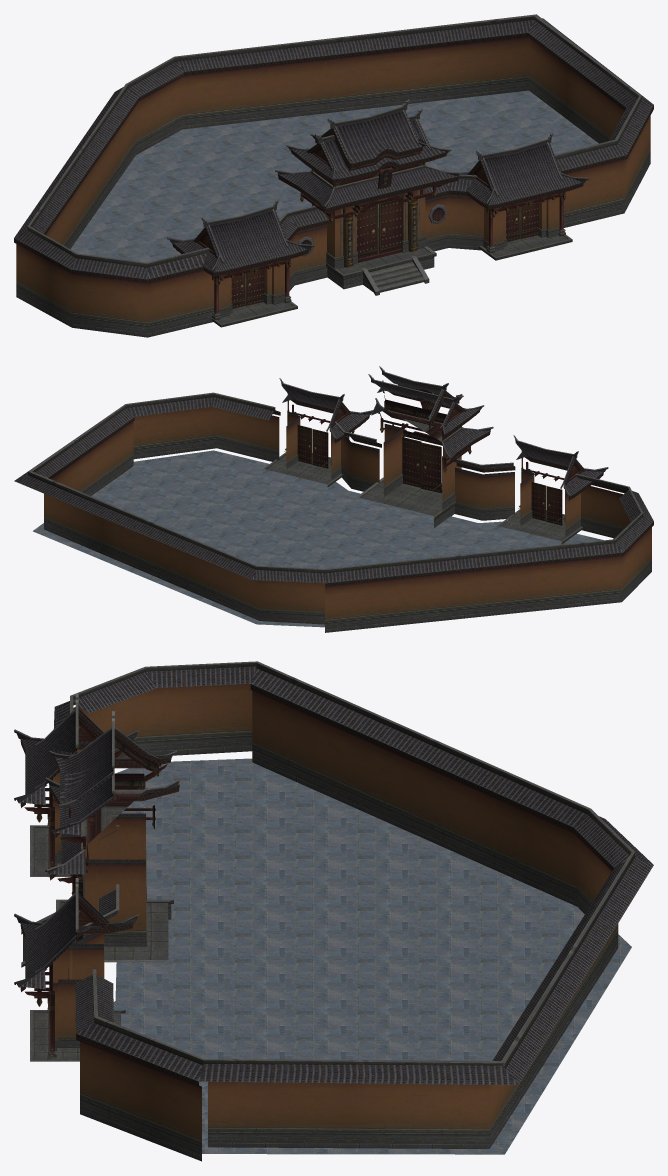
Rendered from yw_shibalipo_shaolinsizhengmen01.FBX.
The picture shows the model from 3 angles, top to bottom: view 1: azimuth 30°, elevation 25°; view 2: azimuth 150°, elevation 25°; view 3: azimuth 270°, elevation 25°; orthographic projection. The views are drawn at different scales.
Parts seen in each view (by area): view 1: yw_shibalipo_shaolinsizhengmen01; view 2: yw_shibalipo_shaolinsizhengmen01; view 3: yw_shibalipo_shaolinsizhengmen01.
Part boxes in pixels (x1,y1,x2,y2): yw_shibalipo_shaolinsizhengmen01: (14, 14, 653, 337); yw_shibalipo_shaolinsizhengmen01: (14, 366, 653, 632); yw_shibalipo_shaolinsizhengmen01: (14, 661, 653, 1161).
Size of the model in its own units: 5301 by 1268 by 3436.
